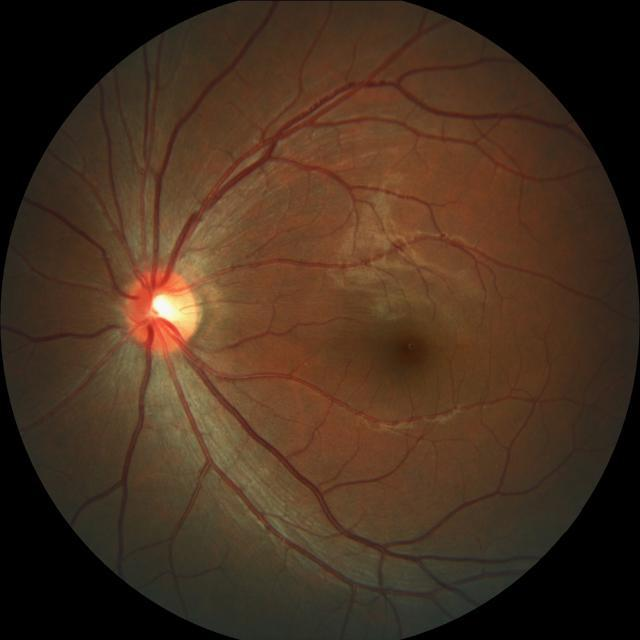OC: (151, 293, 182, 322)
OD: (121, 266, 199, 352)
